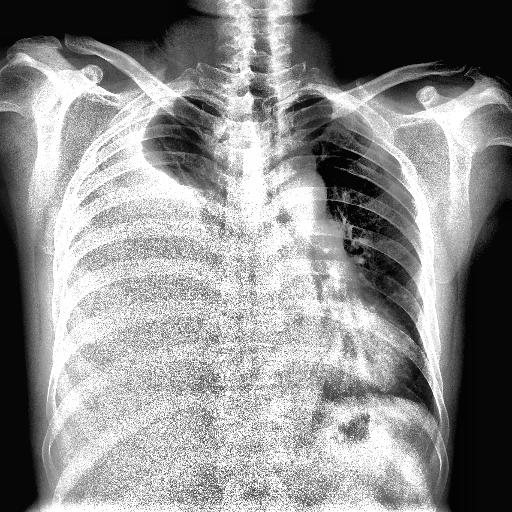0- Aortic enlargement: (274, 168, 328, 226)
10- Pleural effusion: (58, 86, 234, 384), (62, 80, 224, 385), (64, 112, 227, 385)
7- Lung Opacity: (146, 102, 204, 190)
9- Other lesion: (332, 130, 349, 144), (344, 114, 356, 128)
